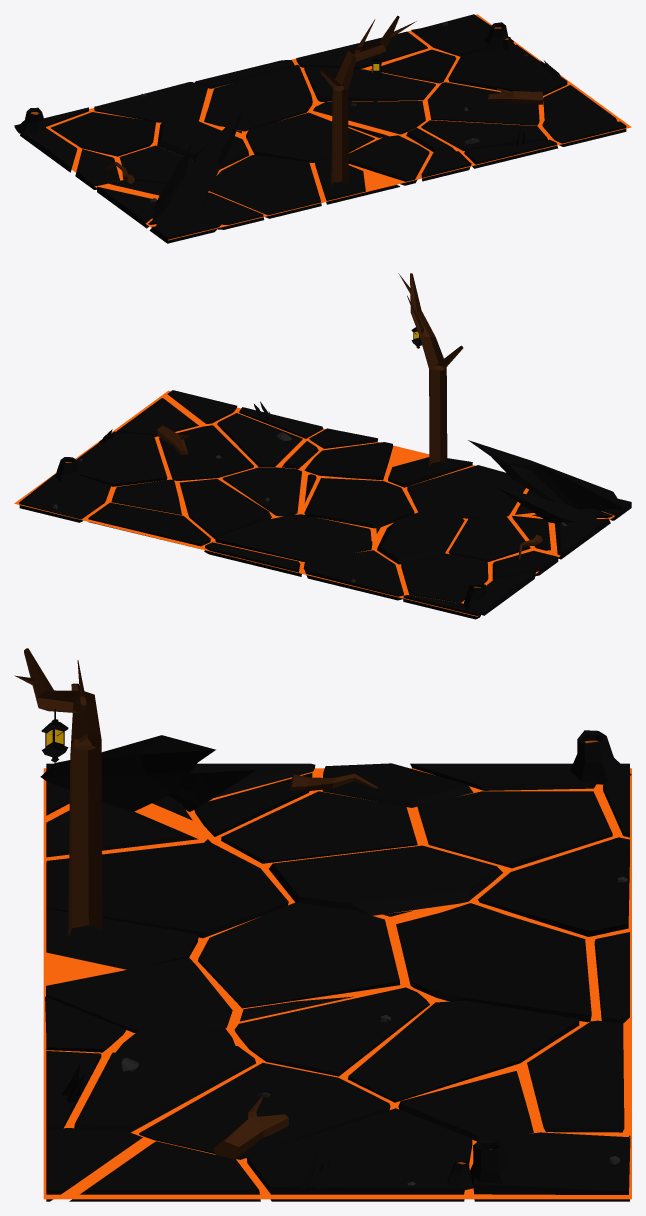
File: terrain-fire.glb
3 renders of one model, top to bottom at view 1: azimuth 30°, elevation 25°; view 2: azimuth 150°, elevation 25°; view 3: azimuth 270°, elevation 25°, orthographic. The views are drawn at different scales.
Parts seen in each view (by area): view 1: terrain-fire; view 2: terrain-fire; view 3: terrain-fire.
Part boxes in pixels (left/top/right/bottom): terrain-fire: left=14, top=14, right=631, bottom=243; terrain-fire: left=14, top=273, right=631, bottom=619; terrain-fire: left=14, top=648, right=631, bottom=1201.
Bounding box in the file's own units: 13.83 × 5.43 × 8.33.
1 material, 1 textured.
